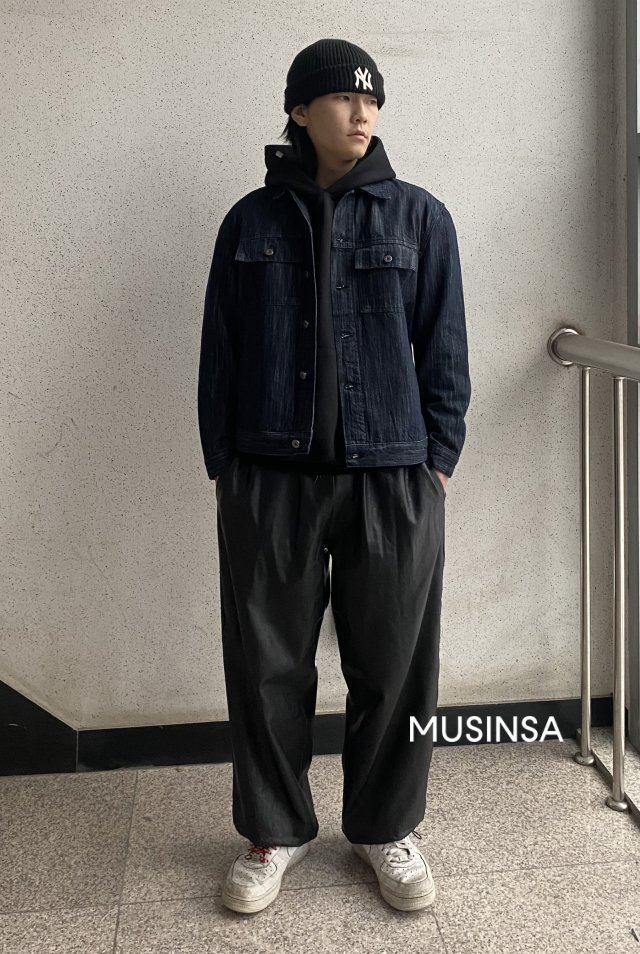Beanie: (271, 36, 392, 108)
Jacket: (180, 164, 477, 475)
Pants: (200, 460, 447, 840)
Shoes: (219, 841, 437, 917)
